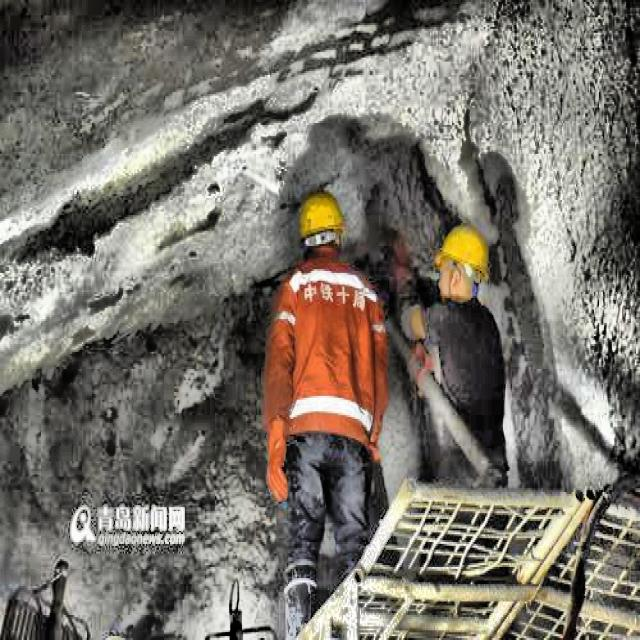helmet: (432, 221, 492, 306), (297, 188, 349, 271)
